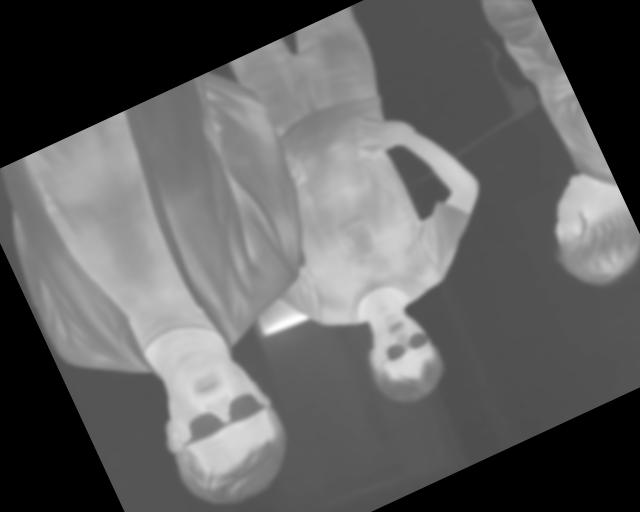face: (135, 330, 305, 512), (350, 300, 455, 414)
